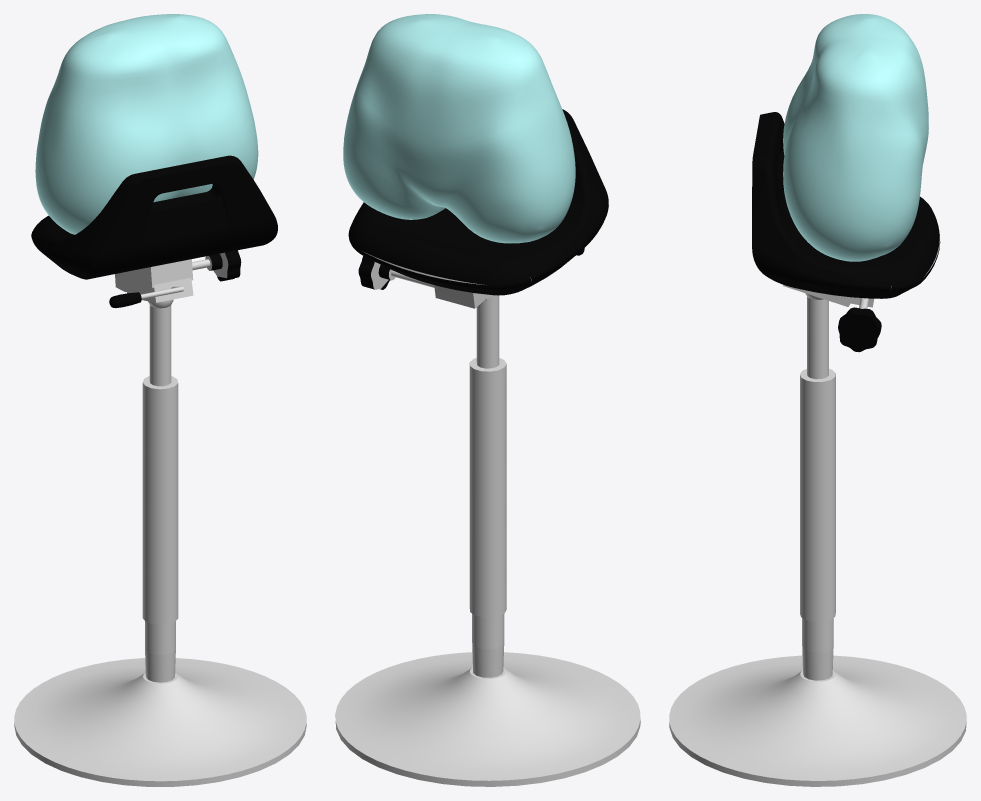
File: leg_base_visual.dae
3 views of the same model, side by side, from view 1: azimuth 30°, elevation 25°; view 2: azimuth 150°, elevation 25°; view 3: azimuth 270°, elevation 25° (orthographic). The views are drawn at different scales.
Parts seen in each view (by area): view 1: mesh 1 base_leg.001, mesh 3 scenario_standing_chair-1/scenario_top_a-1-solid1 fa., mesh 2 scenario_standing_chair-1/scenario_top_b-1-solid1 fa.; view 2: mesh 1 base_leg.001, mesh 3 scenario_standing_chair-1/scenario_top_a-1-solid1 fa., mesh 2 scenario_standing_chair-1/scenario_top_b-1-solid1 fa.; view 3: mesh 1 base_leg.001, mesh 3 scenario_standing_chair-1/scenario_top_a-1-solid1 fa., mesh 2 scenario_standing_chair-1/scenario_top_b-1-solid1 fa..
Part boxes in pixels (left/top/right/bottom): mesh 1 base_leg.001: left=14, top=252, right=306, bottom=786; mesh 3 scenario_standing_chair-1/scenario_top_a-1-solid1 fa.: left=35, top=14, right=258, bottom=234; mesh 2 scenario_standing_chair-1/scenario_top_b-1-solid1 fa.: left=31, top=155, right=277, bottom=307; mesh 1 base_leg.001: left=335, top=251, right=640, bottom=786; mesh 3 scenario_standing_chair-1/scenario_top_a-1-solid1 fa.: left=343, top=14, right=575, bottom=243; mesh 2 scenario_standing_chair-1/scenario_top_b-1-solid1 fa.: left=348, top=109, right=608, bottom=295; mesh 1 base_leg.001: left=669, top=226, right=966, bottom=786; mesh 3 scenario_standing_chair-1/scenario_top_a-1-solid1 fa.: left=783, top=14, right=928, bottom=261; mesh 2 scenario_standing_chair-1/scenario_top_b-1-solid1 fa.: left=752, top=112, right=940, bottom=352.
Size of the model in its own units: 0.45 by 0.4495 by 1.15.
